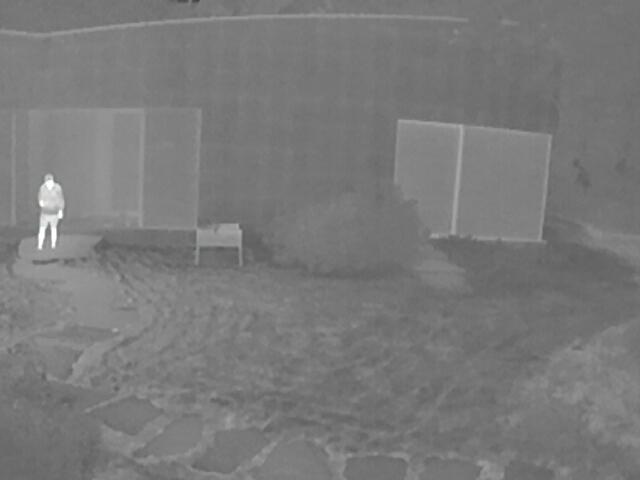person: (36, 171, 68, 253)
